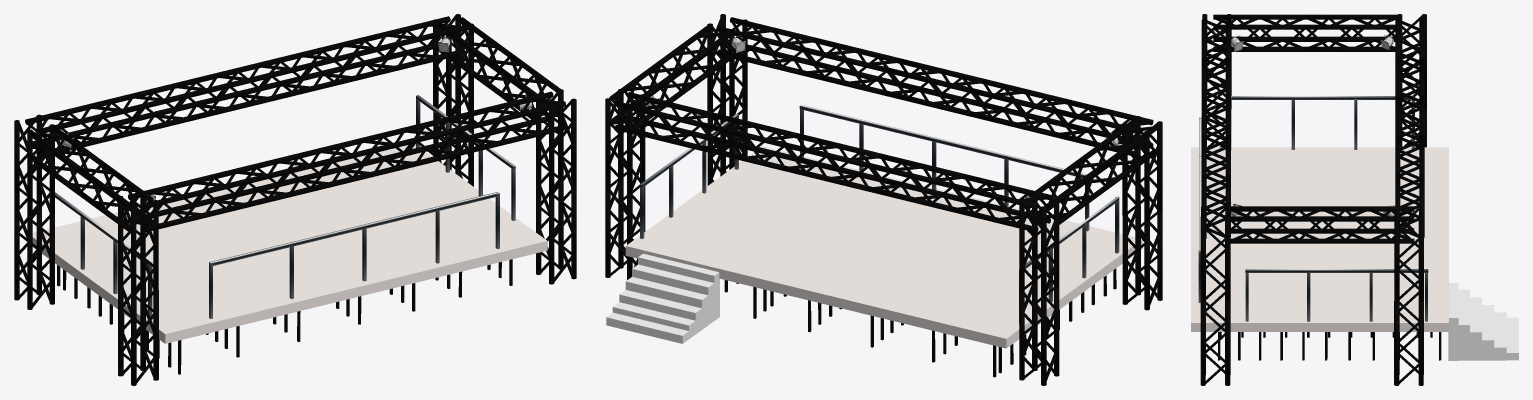
The model's file is stage.gltf.
3 renders of one model, left to right at view 1: azimuth 30°, elevation 25°; view 2: azimuth 150°, elevation 25°; view 3: azimuth 270°, elevation 25°, orthographic. The views are drawn at different scales.
Parts seen in each view (by area): view 1: Cube.004, Steel_Truss_(Tileable).007, Steel_Truss_(Tileable).011, Steel_Truss_(Tileable).018, Steel_Truss_(Tileable).020, Steel_Truss_(Tileable).015, Steel_Truss_(Tileable).014, Steel_Truss_(Tileable).013, Steel_Truss_(Tileable).019, Steel_Truss_(Tileable).021, Steel_Truss_(Tileable).017, Steel_Truss_(Tileable).002 (+12 smaller); view 2: Cube.004, Steel_Truss_(Tileable).007, Steel_Truss_(Tileable).011, Steel_Truss_(Tileable).018, Steel_Truss_(Tileable).020, Steel_Truss_(Tileable).015, Steel_Truss_(Tileable).019, Steel_Truss_(Tileable).013, Steel_Truss_(Tileable).014, Steel_Truss_(Tileable).005, Steel_Truss_(Tileable).012, Steel_Truss_(Tileable).016 (+18 smaller); view 3: Cube.004, Steel_Truss_(Tileable).009, Steel_Truss_(Tileable).001, Steel_Truss_(Tileable).010, Steel_Truss_(Tileable).004, Steel_Truss_(Tileable).003, Steel_Truss_(Tileable).002, Steel_Truss_(Tileable), Steel_Truss_(Tileable).008, Steel_Truss_(Tileable).017, Steel_Truss_(Tileable).020, Steel_Truss_(Tileable).018 (+19 smaller).
Part boxes in pixels (bbox=[...]): Cube.004: bbox=[32, 144, 547, 343]; Steel_Truss_(Tileable).007: bbox=[118, 281, 158, 385]; Steel_Truss_(Tileable).011: bbox=[14, 205, 54, 309]; Steel_Truss_(Tileable).018: bbox=[383, 112, 481, 170]; Steel_Truss_(Tileable).020: bbox=[214, 153, 312, 212]; Steel_Truss_(Tileable).015: bbox=[279, 37, 378, 95]; Steel_Truss_(Tileable).014: bbox=[195, 57, 294, 116]; Steel_Truss_(Tileable).013: bbox=[110, 78, 209, 136]; Steel_Truss_(Tileable).019: bbox=[299, 132, 397, 191]; Steel_Truss_(Tileable).021: bbox=[128, 174, 228, 233]; Steel_Truss_(Tileable).017: bbox=[467, 91, 565, 150]; Steel_Truss_(Tileable).002: bbox=[536, 180, 576, 284]; Cube.004: bbox=[625, 146, 1142, 348]; Steel_Truss_(Tileable).007: bbox=[1122, 205, 1162, 310]; Steel_Truss_(Tileable).011: bbox=[1019, 281, 1059, 385]; Steel_Truss_(Tileable).018: bbox=[801, 37, 899, 95]; Steel_Truss_(Tileable).020: bbox=[969, 79, 1067, 136]; Steel_Truss_(Tileable).015: bbox=[699, 112, 797, 170]; Steel_Truss_(Tileable).019: bbox=[885, 58, 984, 116]; Steel_Truss_(Tileable).013: bbox=[866, 153, 965, 211]; Steel_Truss_(Tileable).014: bbox=[782, 133, 881, 191]; Steel_Truss_(Tileable).005: bbox=[1019, 192, 1059, 297]; Steel_Truss_(Tileable).012: bbox=[951, 174, 1050, 232]; Steel_Truss_(Tileable).016: bbox=[614, 92, 713, 150]; Cube.004: bbox=[1191, 147, 1448, 331]; Steel_Truss_(Tileable).009: bbox=[1229, 206, 1321, 243]; Steel_Truss_(Tileable).001: bbox=[1321, 206, 1414, 243]; Steel_Truss_(Tileable).010: bbox=[1305, 14, 1397, 51]; Steel_Truss_(Tileable).004: bbox=[1213, 14, 1305, 51]; Steel_Truss_(Tileable).003: bbox=[1200, 206, 1230, 301]; Steel_Truss_(Tileable).002: bbox=[1200, 291, 1230, 385]; Steel_Truss_(Tileable): bbox=[1394, 291, 1423, 385]; Steel_Truss_(Tileable).008: bbox=[1394, 206, 1423, 301]; Steel_Truss_(Tileable).017: bbox=[1201, 173, 1230, 238]; Steel_Truss_(Tileable).020: bbox=[1201, 57, 1230, 120]; Steel_Truss_(Tileable).018: bbox=[1201, 134, 1230, 198].
Bounding box in the file's own units: 48.32 × 18.65 × 32.77.
158 materials, 28 textured.
